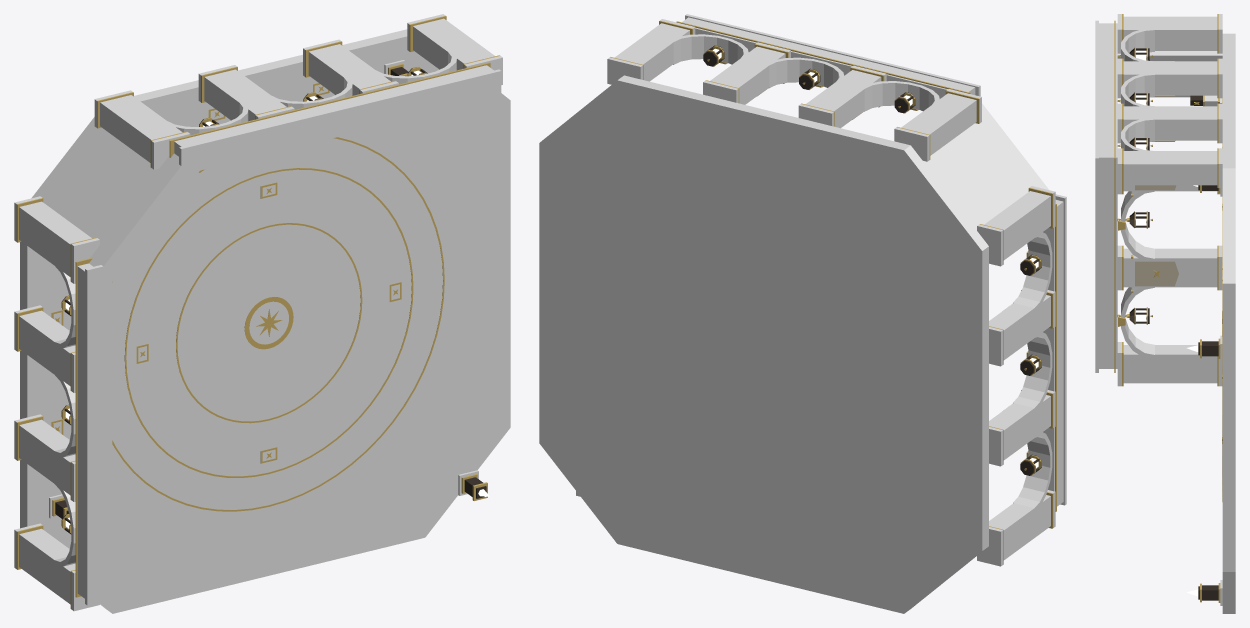
Rendered from concept_lantern_cloister.glb.
3 renders of one model, left to right at view 1: azimuth 30°, elevation 25°; view 2: azimuth 150°, elevation 25°; view 3: azimuth 270°, elevation 25°, orthographic. The views are drawn at different scales.
Visible parts, largest first — view 1: floor-plane, west-architectural-detail, north-architectural-detail, corner-pier, north-coping, floor-inlays, west-coping, floor-slab, north-pier-0, west-pier-3, west-pier-0, west-pier-1 (+5 smaller); view 2: floor-slab, west-architectural-detail, north-architectural-detail, corner-pier, north-coping, west-coping, west-pier-3, north-pier-0, north-pier-1, north-pier-2, west-pier-0, west-pier-1 (+2 smaller); view 3: floor-slab, west-architectural-detail, north-architectural-detail, west-coping, north-pier-3, west-pier-0, north-coping, north-pier-0, north-pier-2, north-pier-1, west-pier-1, floor-plane (+11 smaller).
Boxes of the visible parts, x1,y1,x2,y2 form: floor-plane: [27, 36, 510, 613]; west-architectural-detail: [14, 196, 112, 611]; north-architectural-detail: [94, 14, 502, 174]; corner-pier: [43, 127, 200, 283]; north-coping: [174, 65, 497, 172]; floor-inlays: [51, 83, 444, 511]; west-coping: [77, 263, 110, 600]; floor-slab: [20, 29, 407, 611]; north-pier-0: [100, 95, 182, 166]; west-pier-3: [19, 201, 97, 276]; west-pier-0: [19, 528, 84, 607]; west-pier-1: [19, 419, 75, 495]; floor-slab: [539, 75, 988, 613]; west-architectural-detail: [977, 186, 1066, 566]; north-architectural-detail: [607, 14, 981, 161]; corner-pier: [923, 103, 1049, 230]; north-coping: [682, 17, 975, 98]; west-coping: [1043, 200, 1063, 506]; west-pier-3: [978, 191, 1050, 260]; north-pier-0: [896, 93, 976, 155]; north-pier-1: [801, 70, 881, 128]; north-pier-2: [705, 46, 785, 104]; west-pier-0: [989, 495, 1050, 560]; west-pier-1: [989, 395, 1050, 460]; floor-slab: [1223, 33, 1235, 613]; west-architectural-detail: [1095, 181, 1222, 386]; north-architectural-detail: [1095, 14, 1222, 187]; west-coping: [1099, 178, 1117, 368]; north-pier-3: [1123, 151, 1217, 185]; west-pier-0: [1123, 345, 1217, 383]; north-coping: [1099, 23, 1117, 178]; north-pier-0: [1123, 16, 1217, 50]; north-pier-2: [1123, 106, 1217, 140]; north-pier-1: [1123, 61, 1217, 95]; west-pier-1: [1123, 248, 1217, 287]; floor-plane: [1222, 34, 1223, 613].
Bounding box in the file's own units: 17.46 × 17.46 × 4.86.
